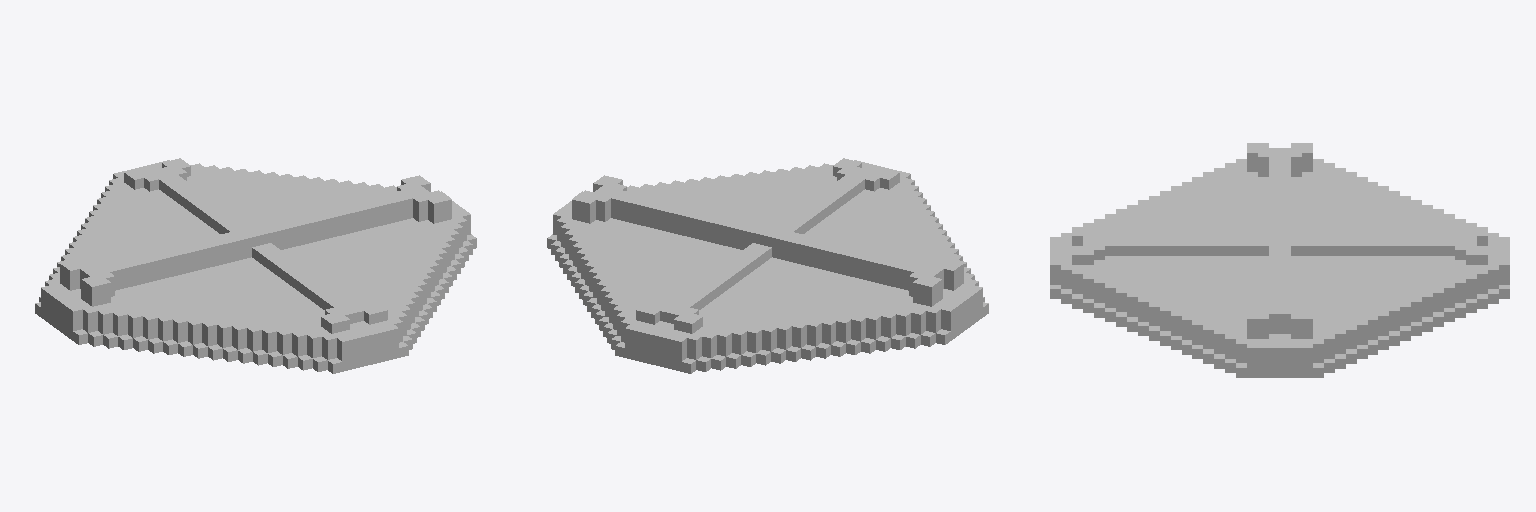
File: button 1 скин 1.obj
3 views of the same model, side by side, from view 1: azimuth 30°, elevation 25°; view 2: azimuth 150°, elevation 25°; view 3: azimuth 270°, elevation 25° (orthographic).
Visible parts, largest first — view 1: object 1; view 2: object 1; view 3: object 1.
Boxes of the visible parts, x1=… form: object 1: x1=35, y1=158, x2=476, y2=373; object 1: x1=547, y1=158, x2=988, y2=373; object 1: x1=1050, y1=143, x2=1509, y2=377.
Size of the model in its own units: 4.2 by 0.5 by 4.2.